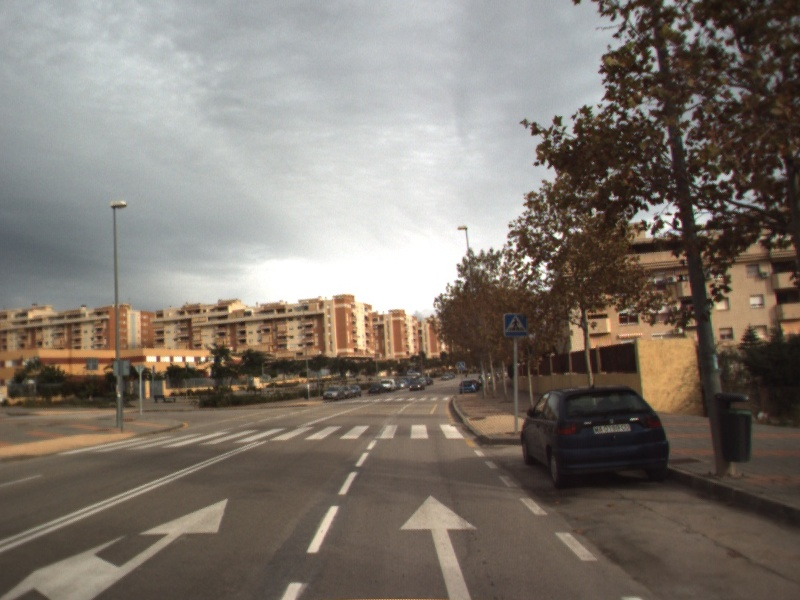STRAIGHT: (397, 491, 480, 600)
STRAIGHT_LEFT: (1, 495, 230, 600)
